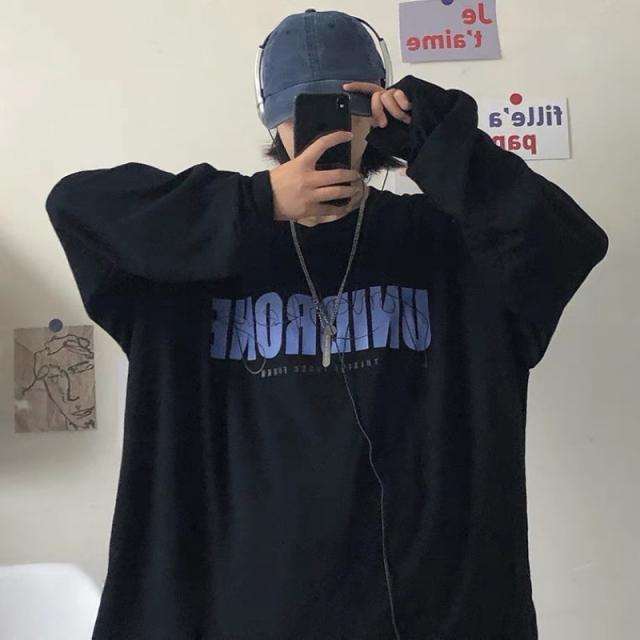Shirt: (41, 70, 610, 640)
